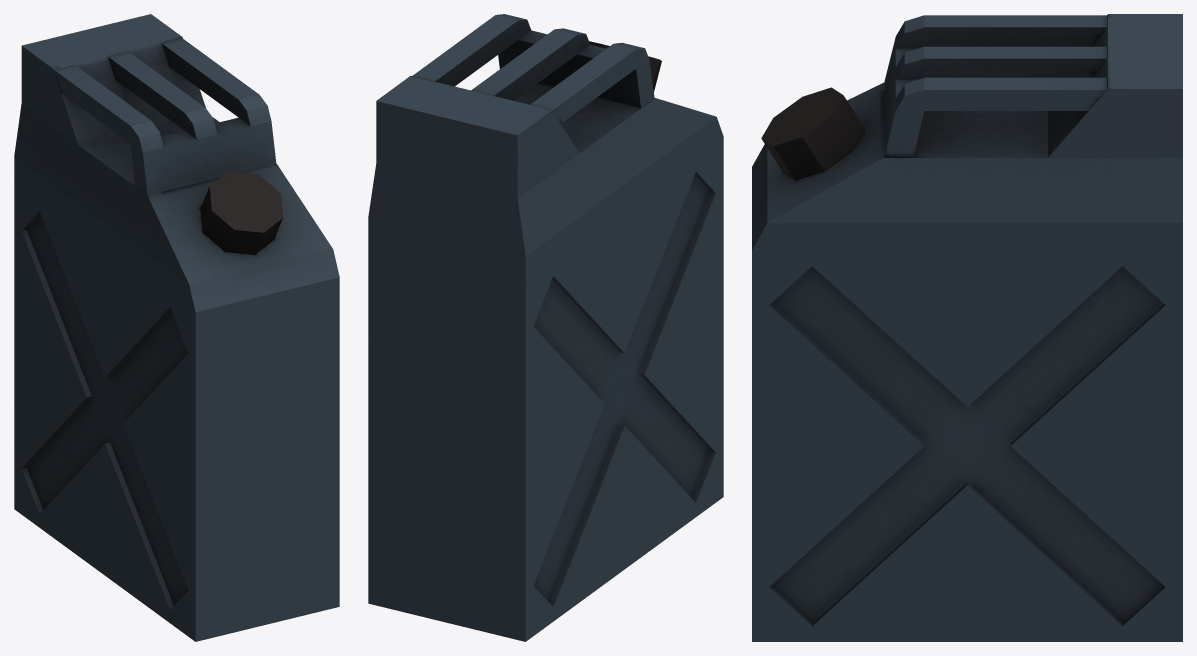
Rendered from Jerry_Can_Blue.fbx.
3 renders of one model, left to right at view 1: azimuth 30°, elevation 25°; view 2: azimuth 150°, elevation 25°; view 3: azimuth 270°, elevation 25°, orthographic. The views are drawn at different scales.
Visible parts, largest first — view 1: Jerry_Can_Blue; view 2: Jerry_Can_Blue; view 3: Jerry_Can_Blue.
Part boxes in pixels (x1=…): Jerry_Can_Blue: x1=14, y1=14, x2=339, y2=641; Jerry_Can_Blue: x1=368, y1=14, x2=723, y2=641; Jerry_Can_Blue: x1=752, y1=14, x2=1182, y2=641.
Bounding box in the file's own units: 4.16 × 12.73 × 9.06.
